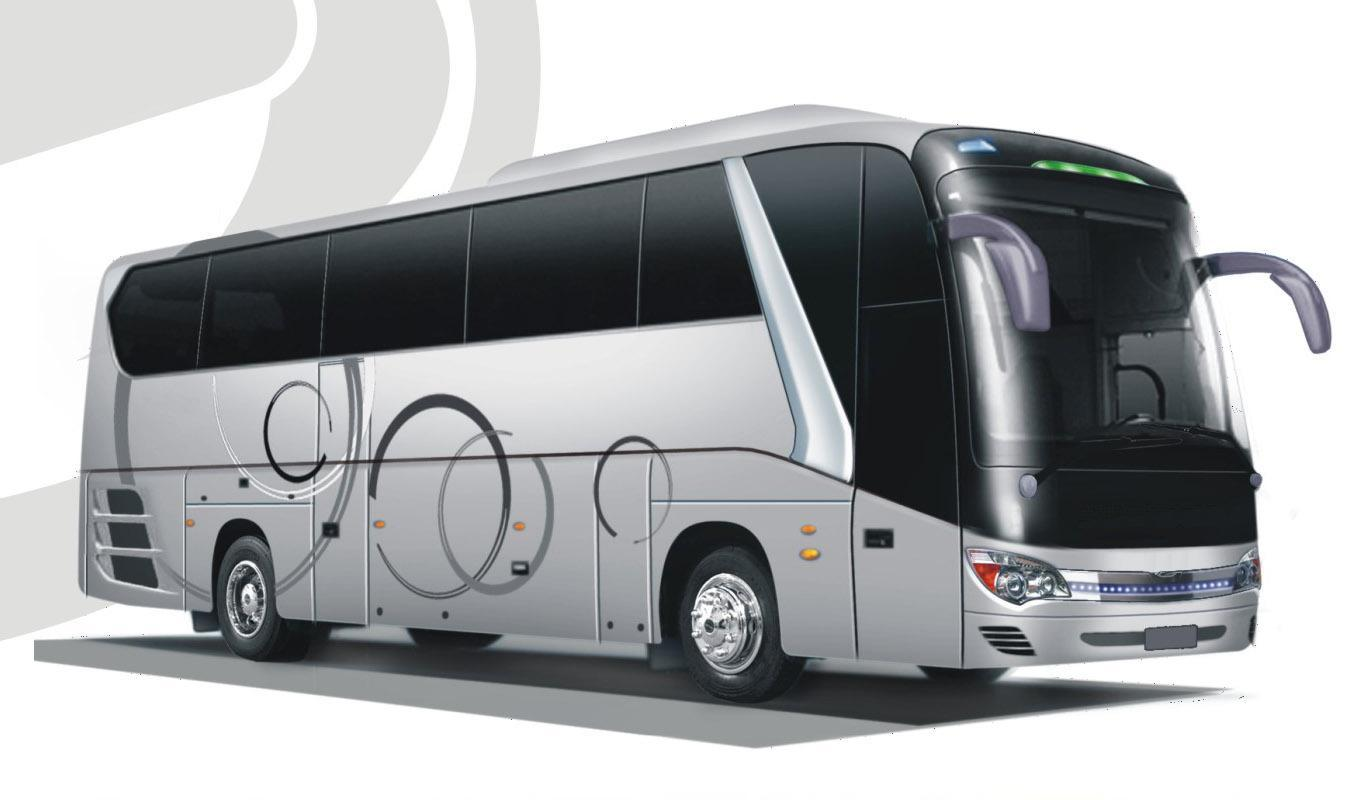Bus: (74, 106, 1334, 704)
